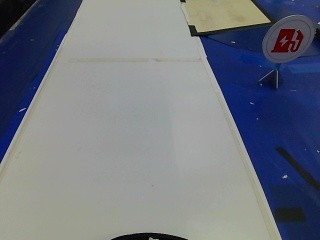battery: (264, 15, 314, 65)
